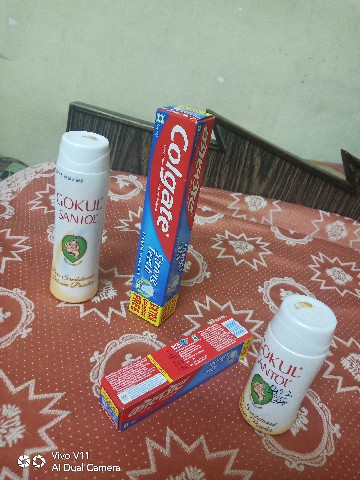colgatetoothpaste big: (126, 97, 220, 330)
colgatetoothpaste small: (95, 306, 254, 437)
gokulsantol big: (47, 123, 118, 314)
gokulsantol small: (239, 293, 343, 440)
